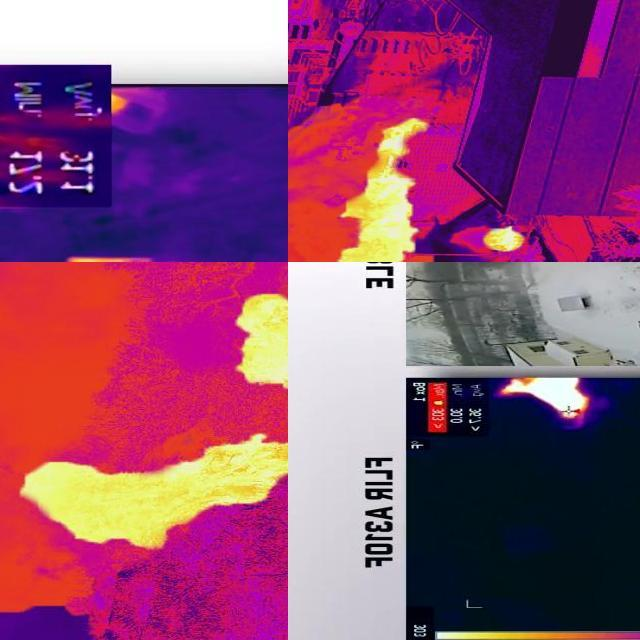fire: (8, 435, 290, 551), (336, 119, 431, 265), (236, 296, 289, 391), (498, 379, 596, 422), (478, 224, 533, 257)
